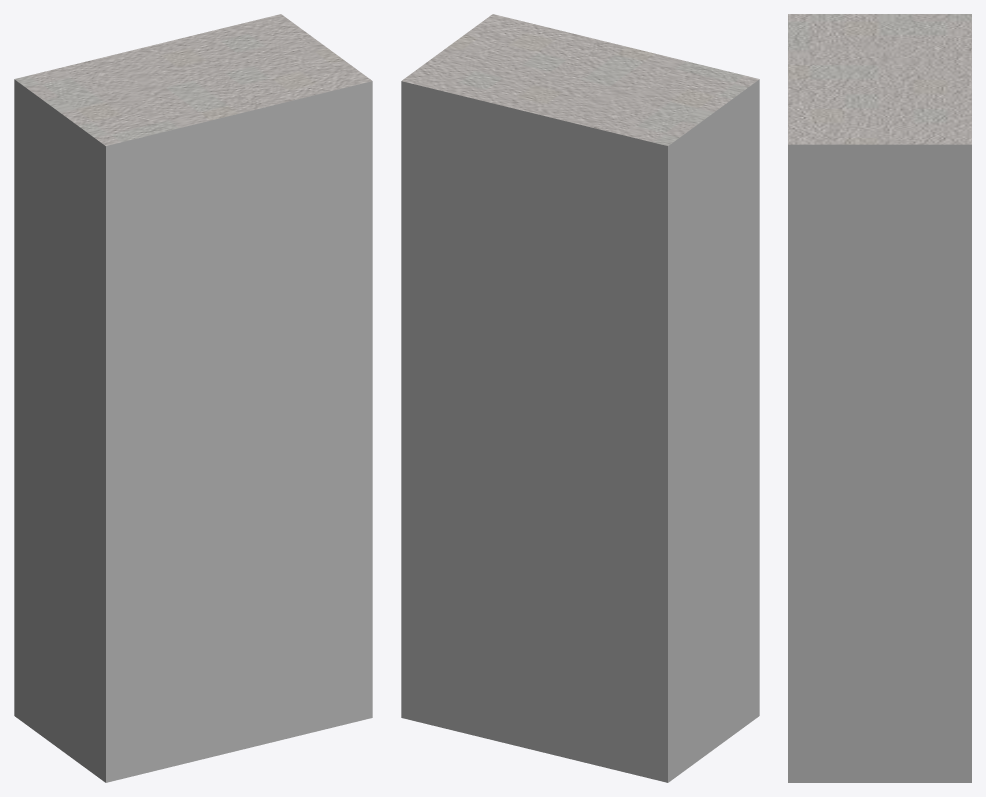
File: building5.fbx
3 views of the same model, side by side, from view 1: azimuth 30°, elevation 25°; view 2: azimuth 150°, elevation 25°; view 3: azimuth 270°, elevation 25° (orthographic).
Parts seen in each view (by area): view 1: building_021; view 2: building_021; view 3: building_021.
Boxes of the visible parts, x1=… form: building_021: x1=14, y1=14, x2=372, y2=782; building_021: x1=401, y1=14, x2=759, y2=782; building_021: x1=788, y1=14, x2=971, y2=782.
Size of the model in its own units: 1514 by 3450 by 900.
